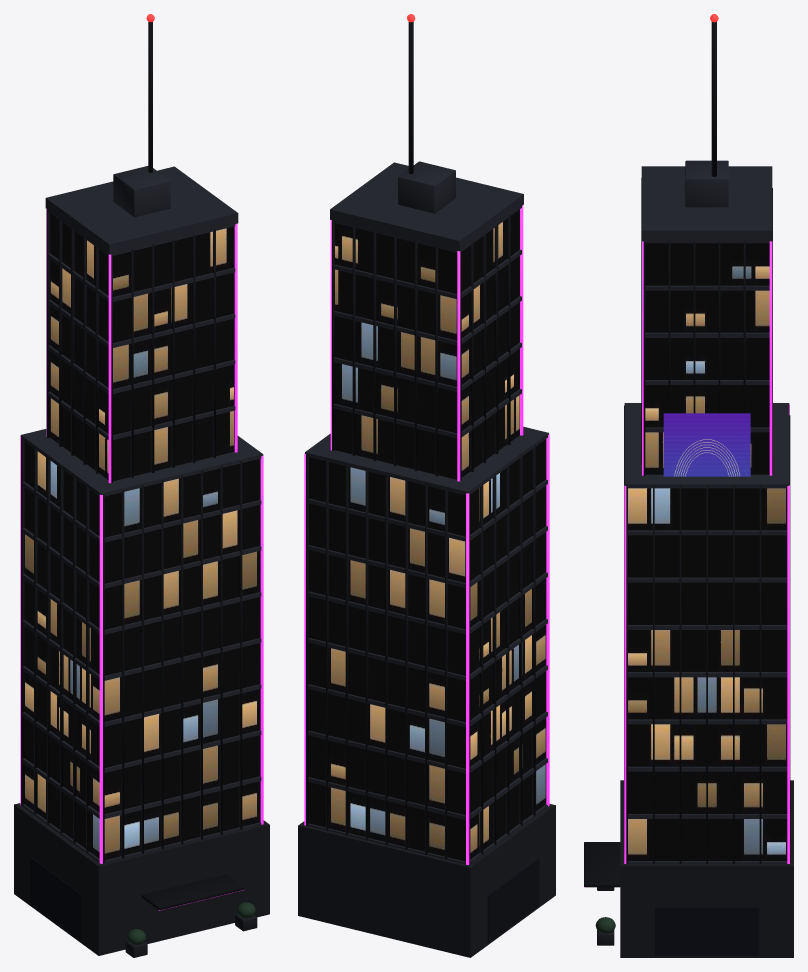
The model's file is neon-v-B.glb.
The picture shows the model from 3 angles, left to right: view 1: azimuth 30°, elevation 25°; view 2: azimuth 150°, elevation 25°; view 3: azimuth 270°, elevation 25°; orthographic projection. The views are drawn at different scales.
Parts seen in each view (by area): view 1: Building; view 2: Building; view 3: Building.
Part boxes in pixels (box(x1,y1,x2,y2)): Building: box(14, 14, 269, 957); Building: box(298, 14, 555, 957); Building: box(584, 14, 793, 957).
Size of the model in its own units: 14.1 by 69.1 by 14.5.
9 materials, 2 textured.
